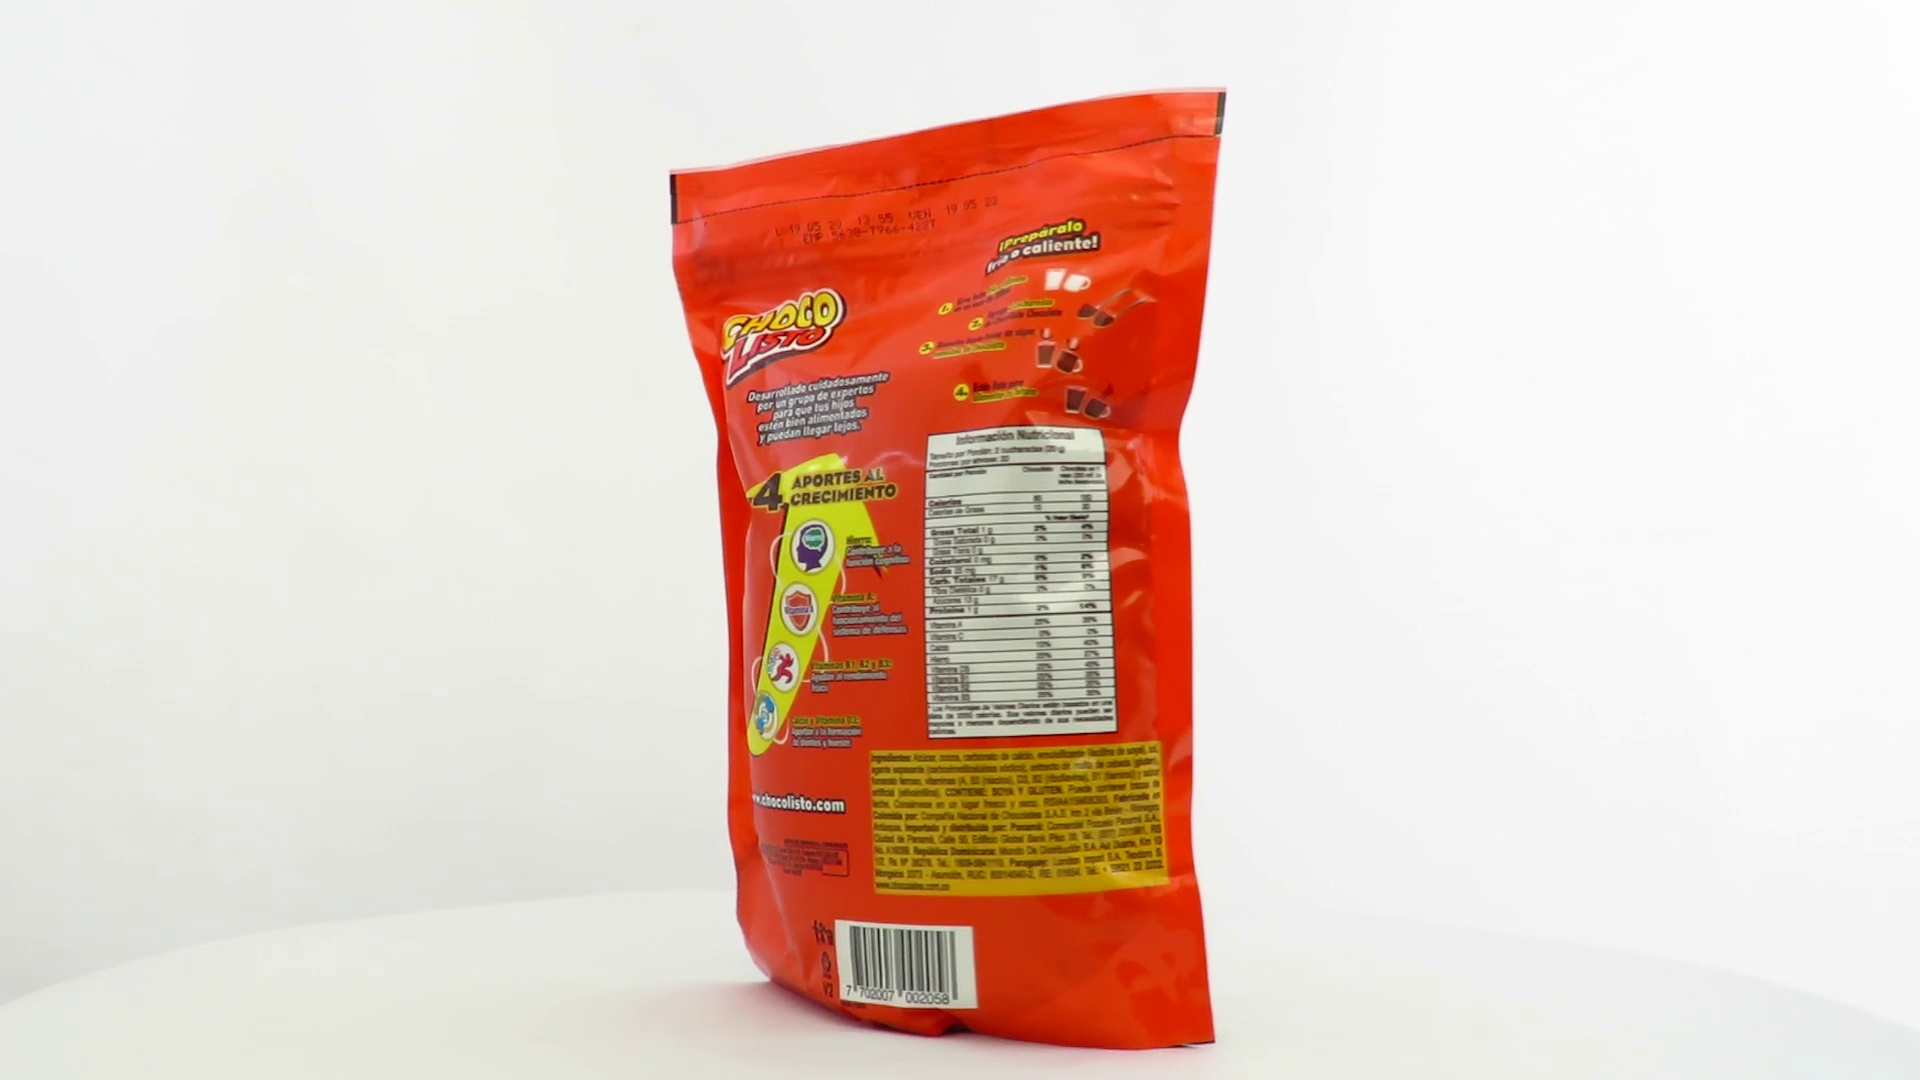COL0170103DYP40000: (665, 80, 1233, 1058)
